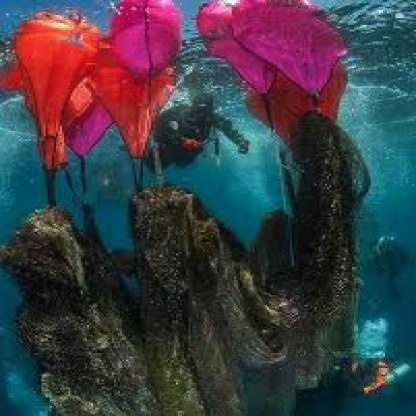net: (16, 202, 347, 416)
